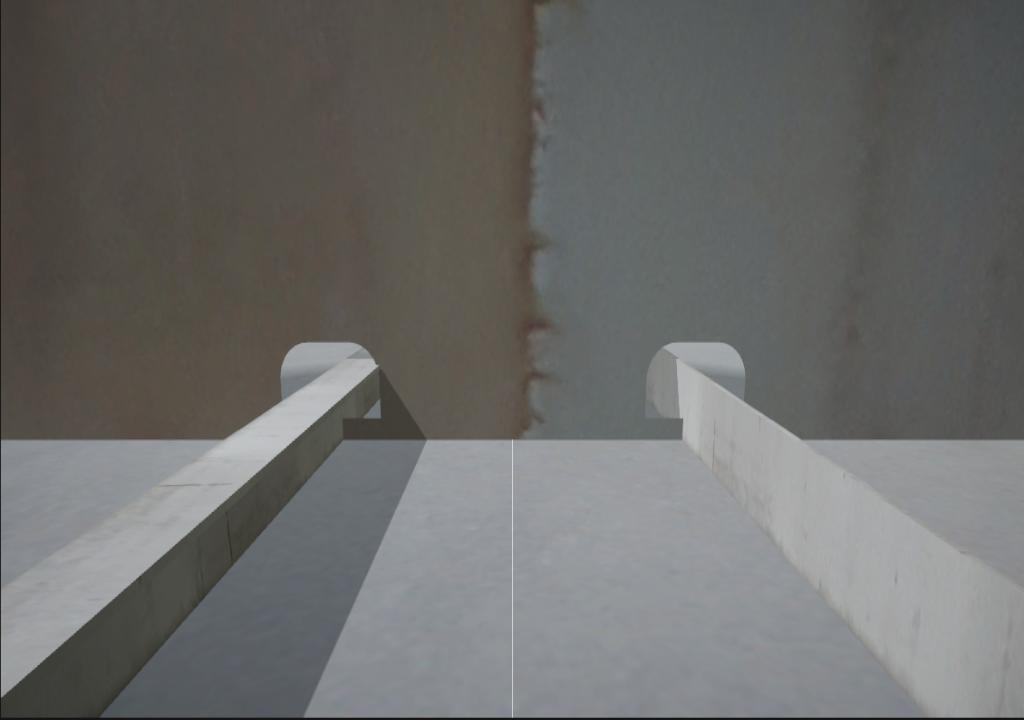fillet_yong_jeop_jang: (337, 428, 690, 451)
longi_yong_jeop_jang: (336, 411, 359, 454), (674, 412, 689, 448)
